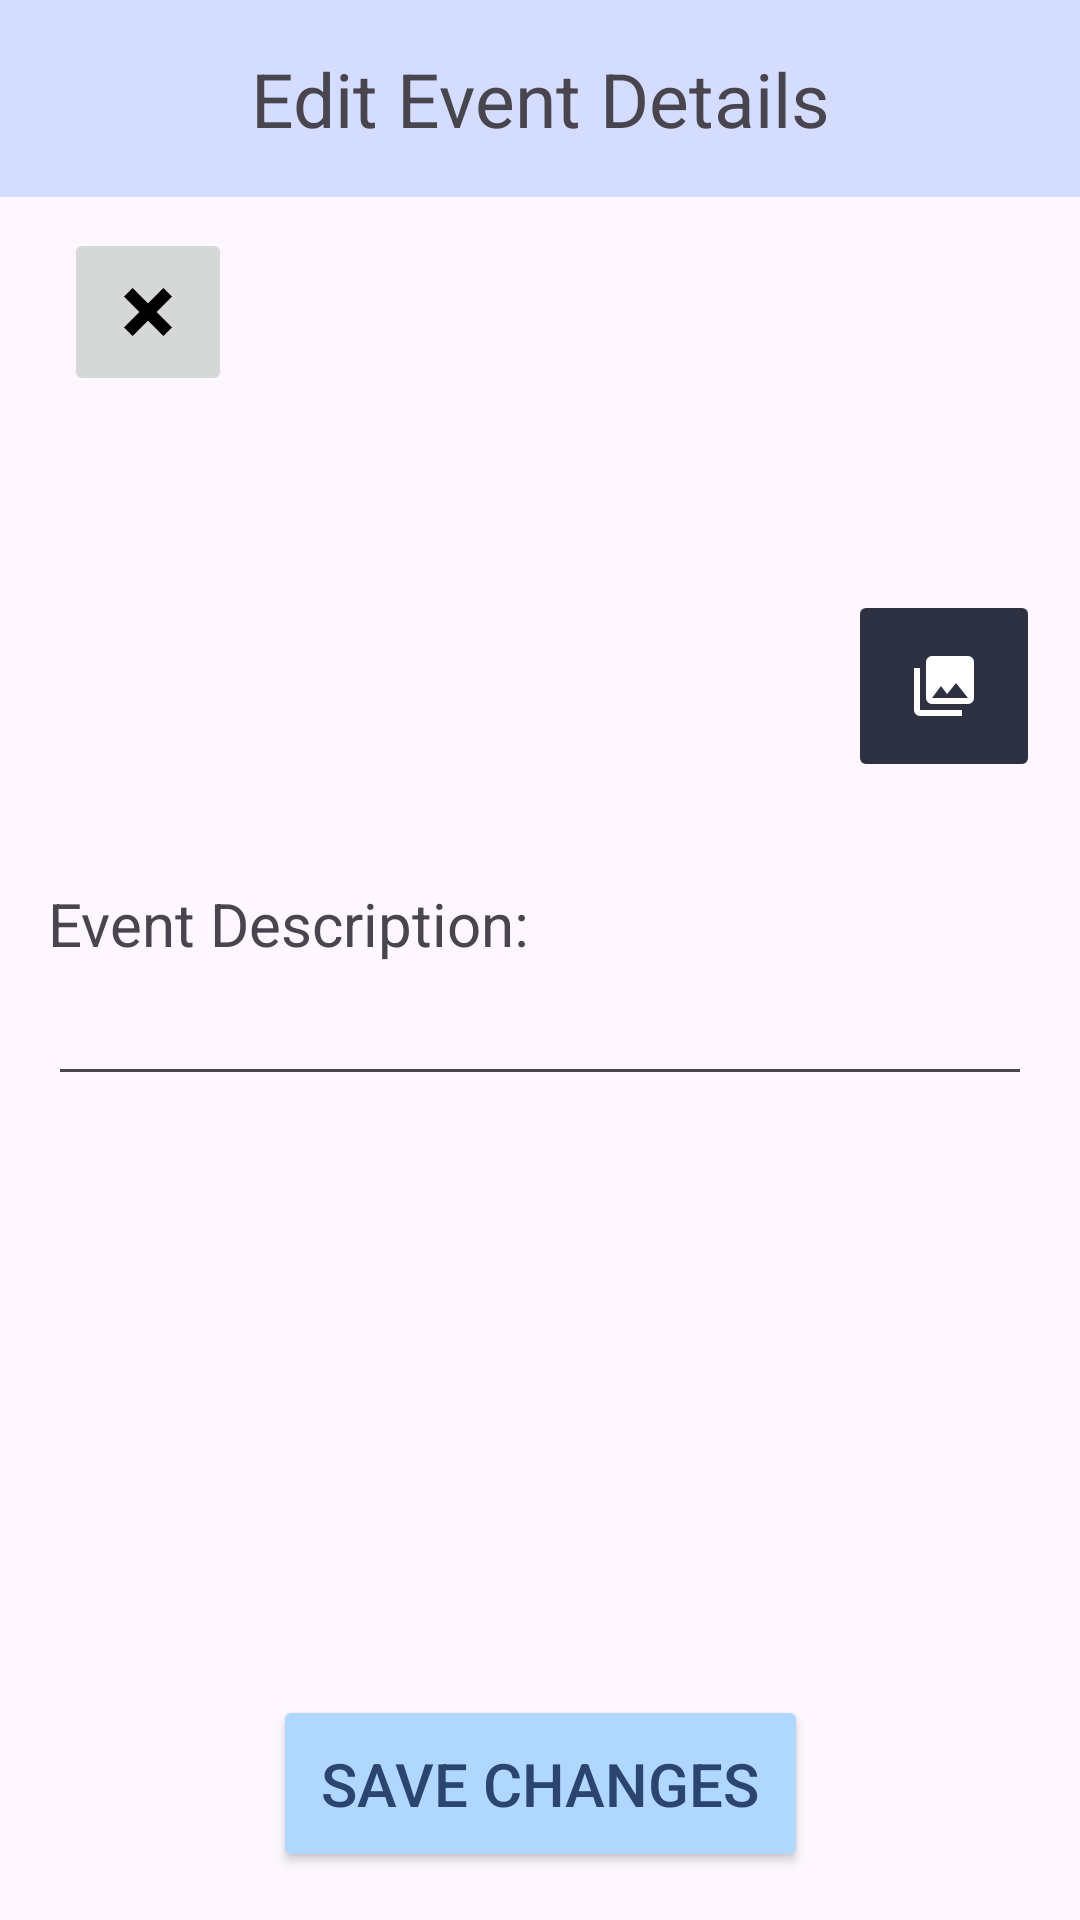

Locate icon controls on the screen. Image size 1080px×1920px, boxes as (x1, y1, x2, y2).
multiple: (860, 608, 1028, 764)
